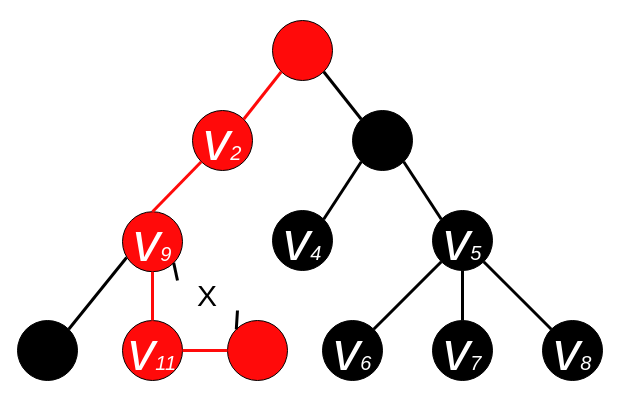
The diagram is 620 pixels wide and 401 high, and some of its shapes have lost their labels. Here are the shapes that lost their labels. From the top down, the centre of each, then its label:
the point at 302,50: v 1
the point at 382,140: v 3
the point at 47,350: v 10
the point at 257,350: v 12
